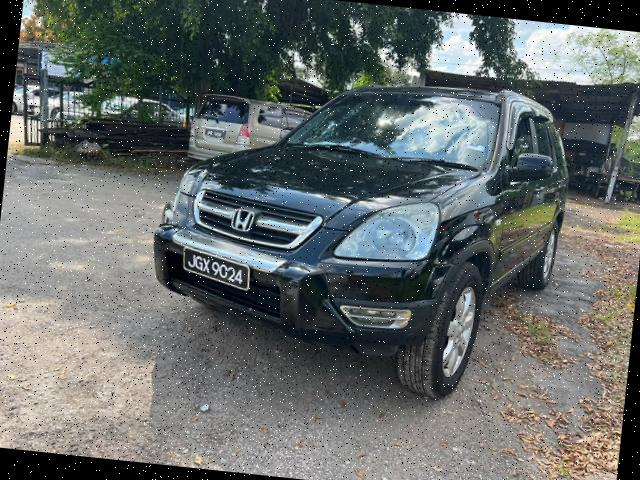License_Plate: (178, 249, 256, 292)
car: (139, 54, 590, 413)
